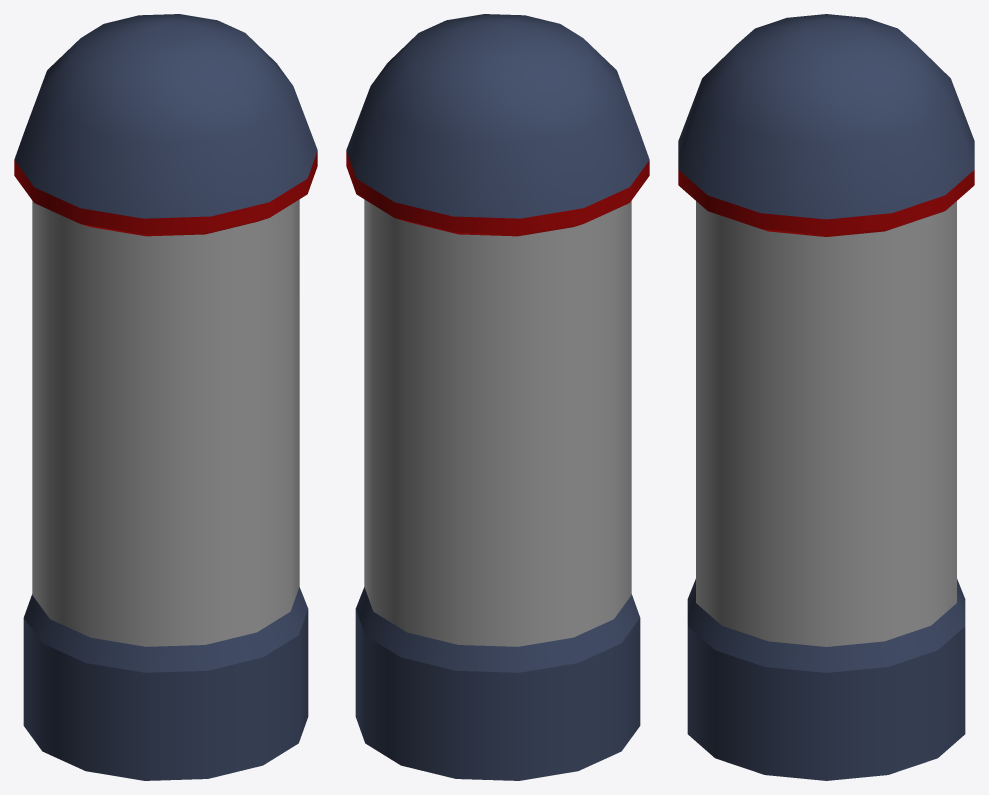
The model's file is Silo.fbx.
The picture shows the model from 3 angles, left to right: view 1: azimuth 30°, elevation 25°; view 2: azimuth 150°, elevation 25°; view 3: azimuth 270°, elevation 25°; orthographic projection.
Parts seen in each view (by area): view 1: Pical_Gigante; view 2: Pical_Gigante; view 3: Pical_Gigante.
Part boxes in pixels (box(x1,y1,x2,y2)): Pical_Gigante: box(14, 14, 317, 780); Pical_Gigante: box(346, 14, 649, 780); Pical_Gigante: box(678, 14, 974, 780).
Size of the model in its own units: 351 by 875 by 342.
